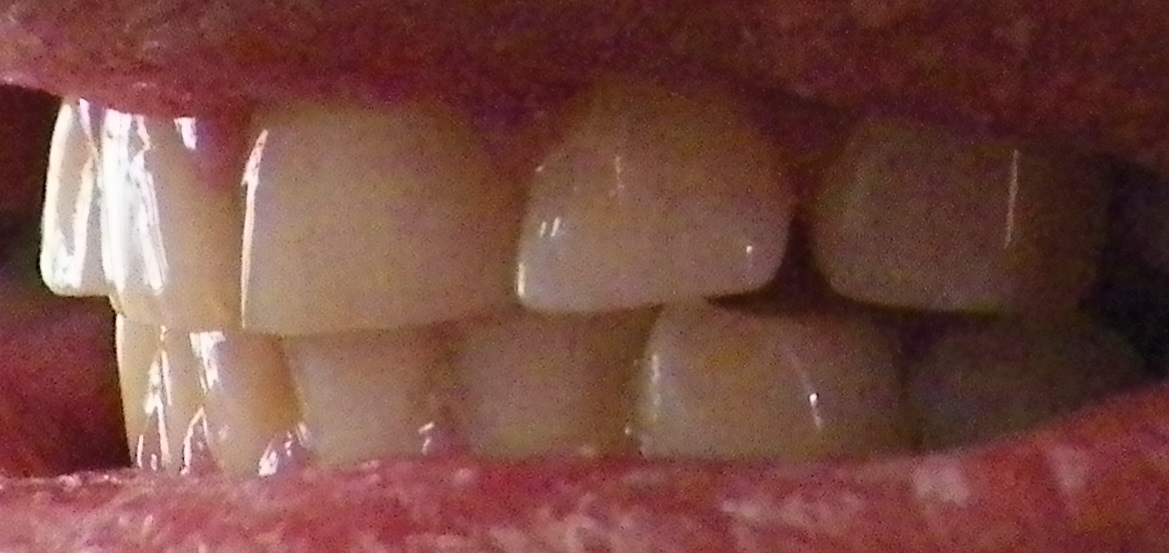boca: (37, 103, 1118, 463)
